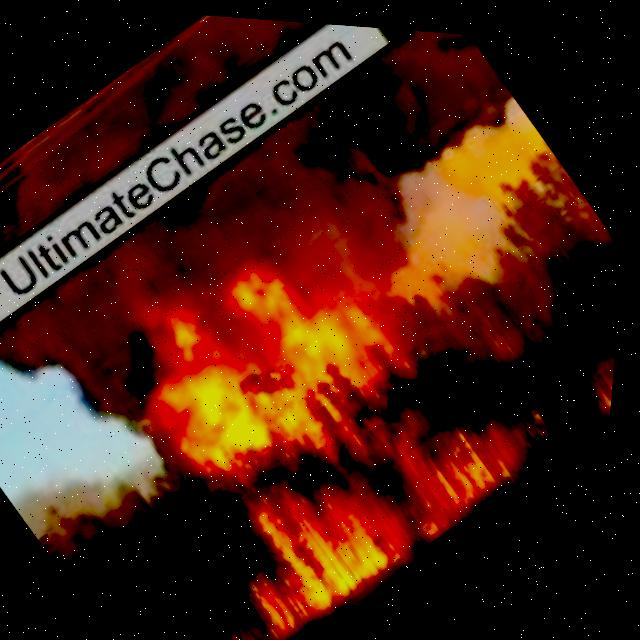Fire: (64, 160, 555, 640), (577, 314, 622, 410)
Smoke: (0, 0, 529, 476), (0, 0, 410, 319)
